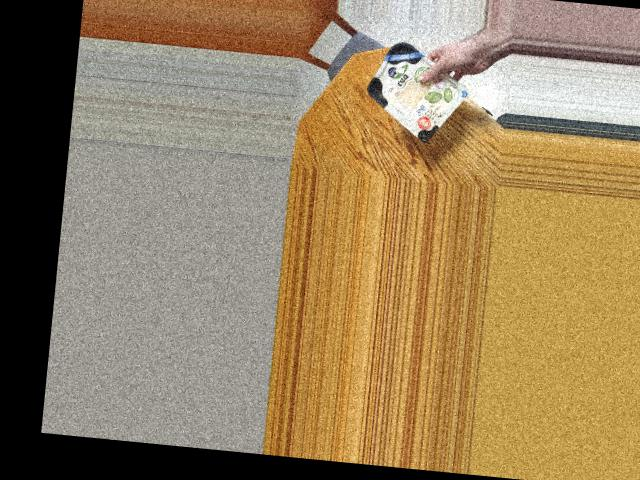cheese: (367, 34, 457, 138)
